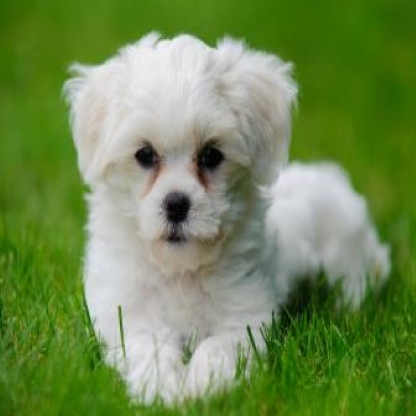maltese: (61, 36, 392, 401)
